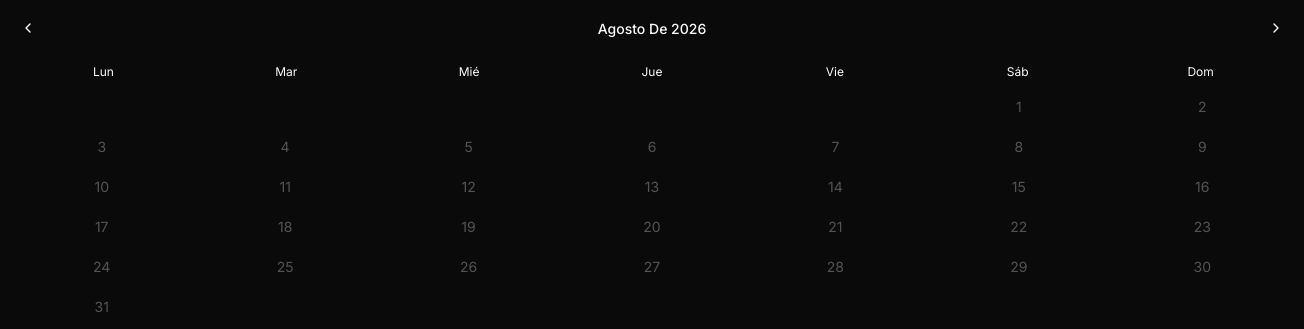
Test: CalendarPublic › navigates to next month
Click the button named "Mes siguiente". click: (1276, 28)
box: [1260,12,1292,44]
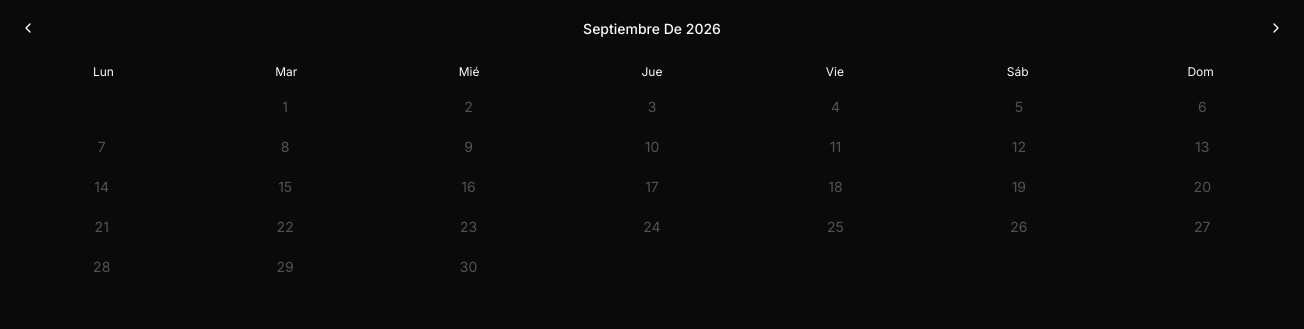
Expected: the text "septiembre de 2026" is shown, [583,18,721,38]
